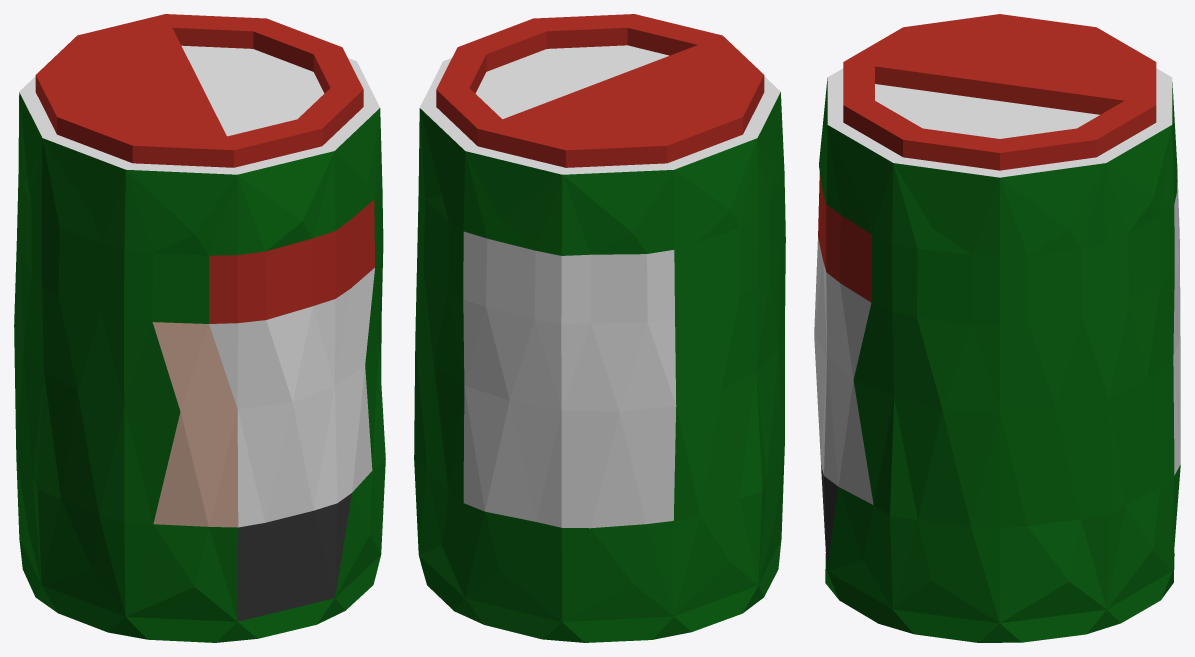
File: item_spice.fbx
The picture shows the model from 3 angles, left to right: view 1: azimuth 30°, elevation 25°; view 2: azimuth 150°, elevation 25°; view 3: azimuth 270°, elevation 25°; orthographic projection.
Parts seen in each view (by area): view 1: item_tonys; view 2: item_tonys; view 3: item_tonys.
Part boxes in pixels (x1=…): item_tonys: x1=14, y1=14, x2=385, y2=642; item_tonys: x1=414, y1=14, x2=785, y2=642; item_tonys: x1=814, y1=14, x2=1180, y2=642.
Bounding box in the file's own units: 12.46 × 18.02 × 12.35.
